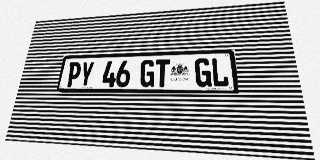4: (101, 61, 118, 87)
6: (115, 60, 131, 87)
G: (195, 58, 212, 87), (139, 60, 155, 87)
L: (211, 57, 229, 87)
P: (66, 62, 82, 87)
T: (155, 59, 170, 87)
Y: (78, 61, 95, 87)
